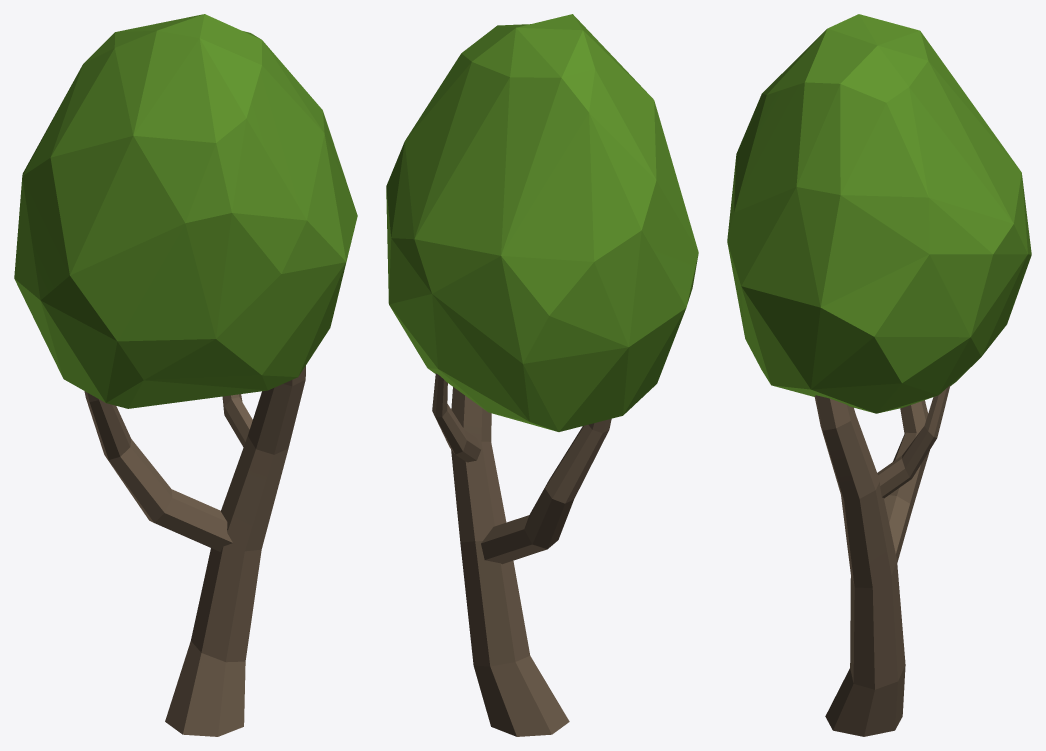
The model's file is Tree8.glb.
The picture shows the model from 3 angles, left to right: view 1: azimuth 30°, elevation 25°; view 2: azimuth 150°, elevation 25°; view 3: azimuth 270°, elevation 25°; orthographic projection. The views are drawn at different scales.
Parts seen in each view (by area): view 1: Tree_8; view 2: Tree_8; view 3: Tree_8.
Part boxes in pixels (x1,y1,x2,y2): Tree_8: (14, 14, 357, 736); Tree_8: (386, 14, 698, 736); Tree_8: (727, 14, 1031, 736).
Bounding box in the file's own units: 1.68 × 3.82 × 1.55.
Materials: 1 (1 with a texture image).
